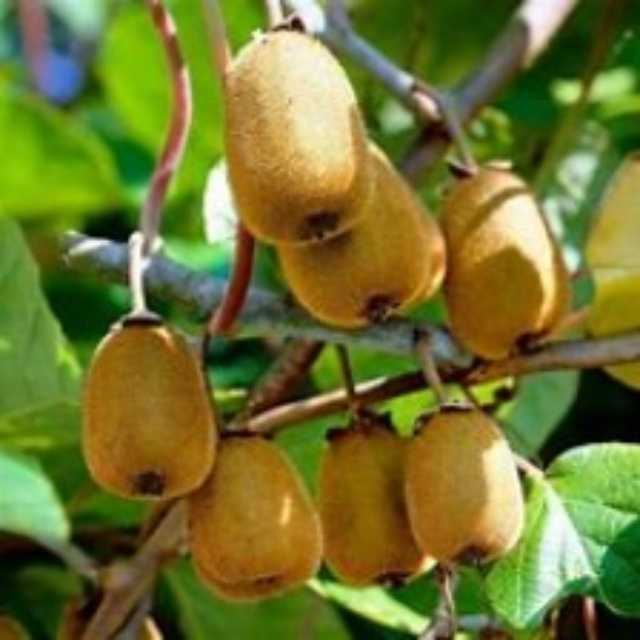kiwi: (227, 28, 452, 345), (82, 313, 247, 519), (189, 428, 331, 622), (433, 162, 560, 367), (408, 405, 534, 571), (317, 425, 435, 594)
